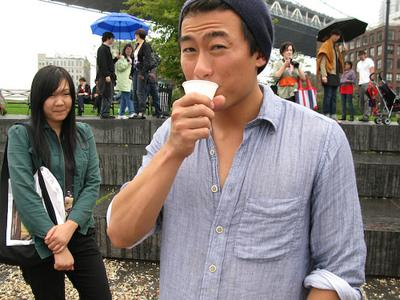person: (102, 1, 369, 299)
